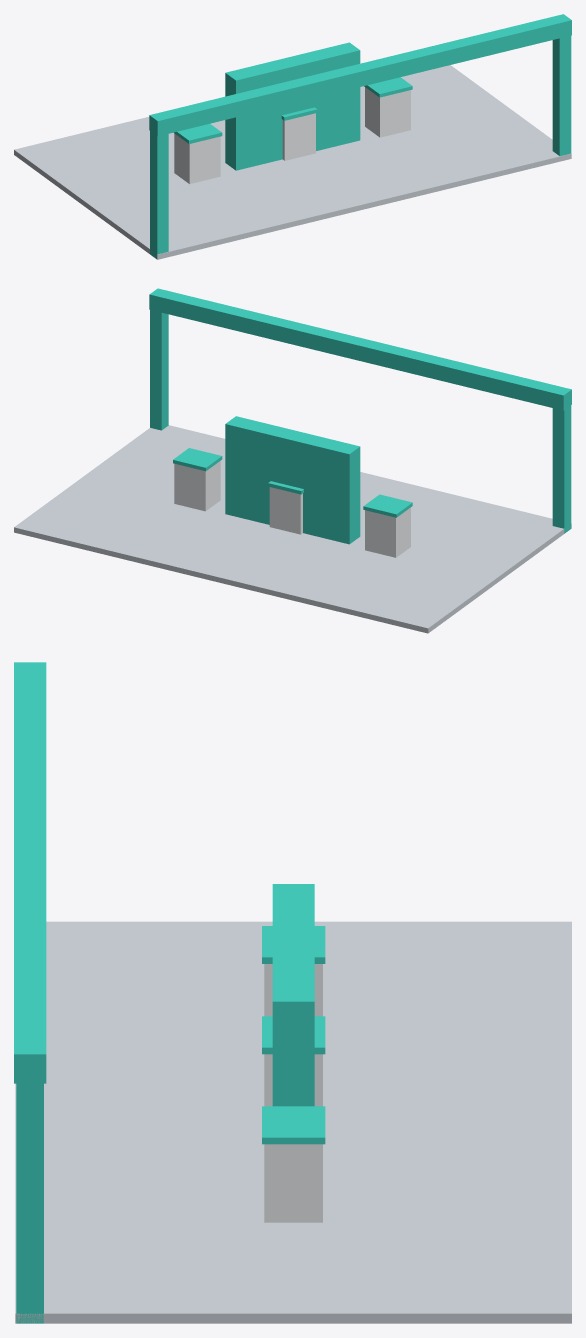
3 renders of one model, top to bottom at view 1: azimuth 30°, elevation 25°; view 2: azimuth 150°, elevation 25°; view 3: azimuth 270°, elevation 25°, orthographic. The views are drawn at different scales.
Visible parts, largest first — view 1: Exhibition Booth Concept; view 2: Exhibition Booth Concept; view 3: Exhibition Booth Concept.
Boxes of the visible parts, bbox=[...] form: Exhibition Booth Concept: bbox=[14, 14, 571, 259]; Exhibition Booth Concept: bbox=[14, 288, 571, 633]; Exhibition Booth Concept: bbox=[14, 662, 571, 1323].
Size of the model in its own units: 10 by 3.2 by 6.02.
